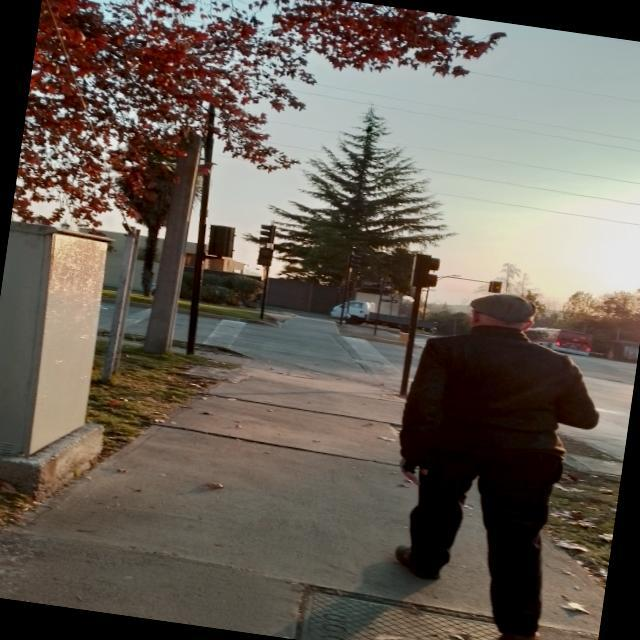person: (333, 265, 640, 640)
